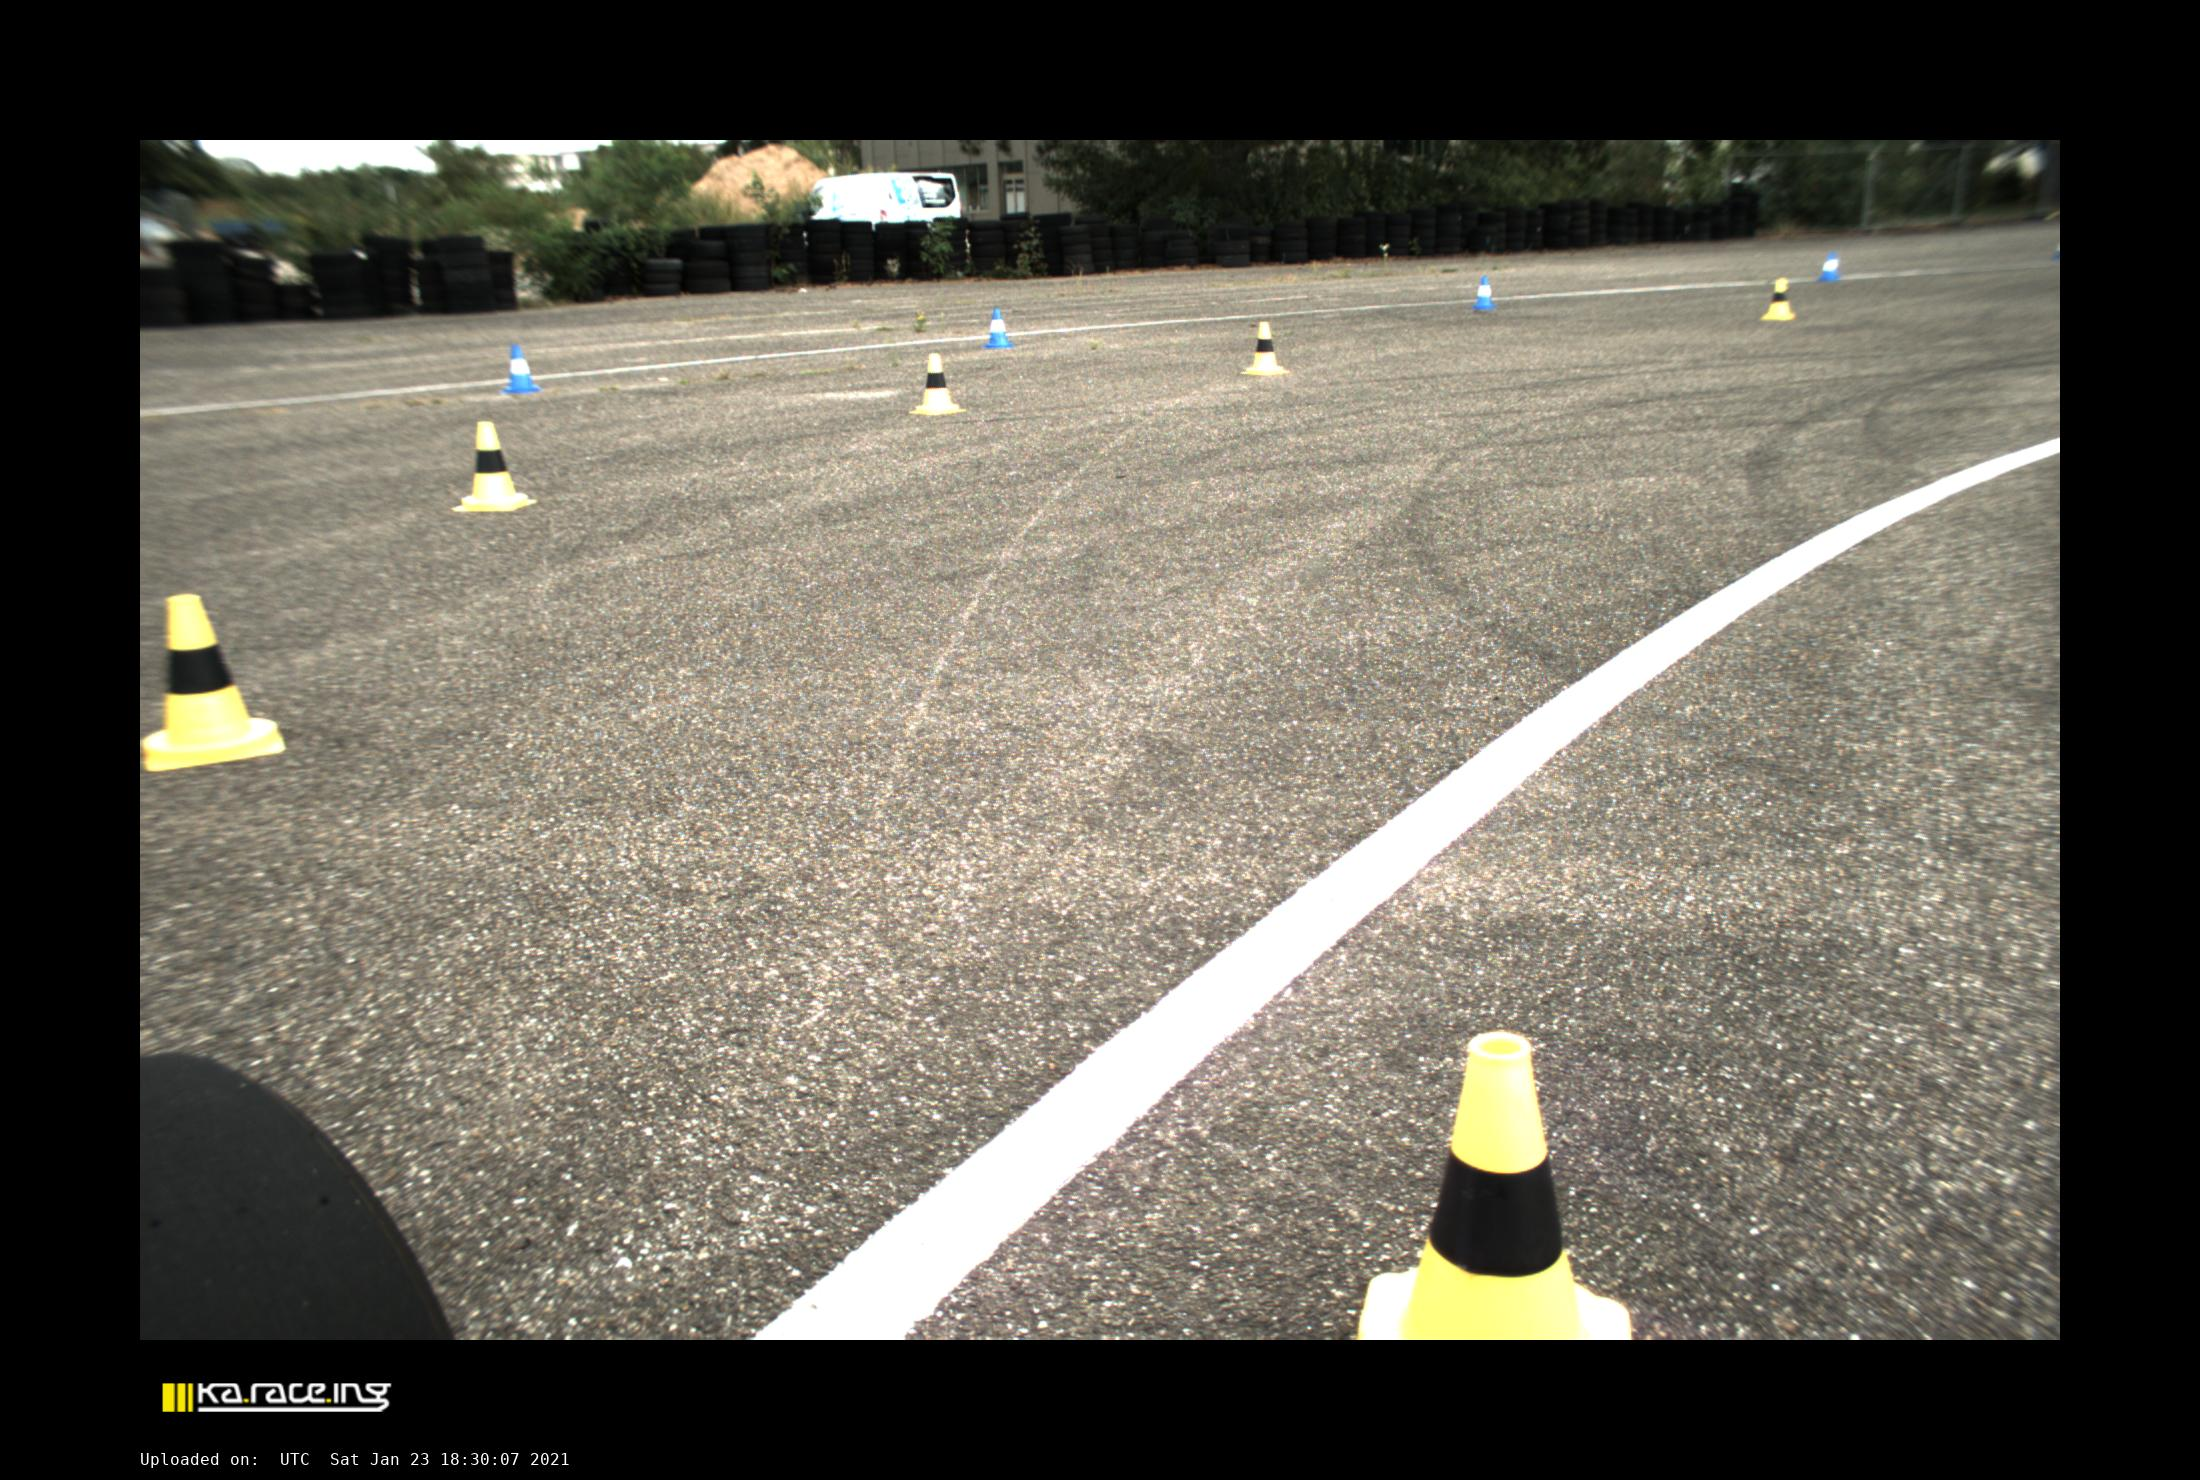blue_cone: (504, 344, 540, 393), (984, 307, 1012, 349), (1473, 276, 1496, 309), (1818, 253, 1838, 281)
yellow_cone: (1359, 1032, 1630, 1340), (142, 595, 286, 771), (453, 421, 537, 512), (910, 353, 963, 416), (1240, 322, 1290, 377), (1762, 277, 1794, 320)
